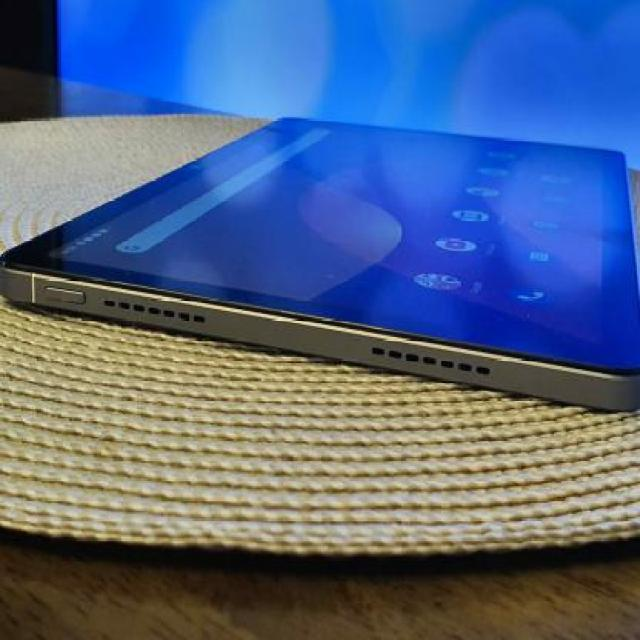tablet: (13, 95, 640, 441)
